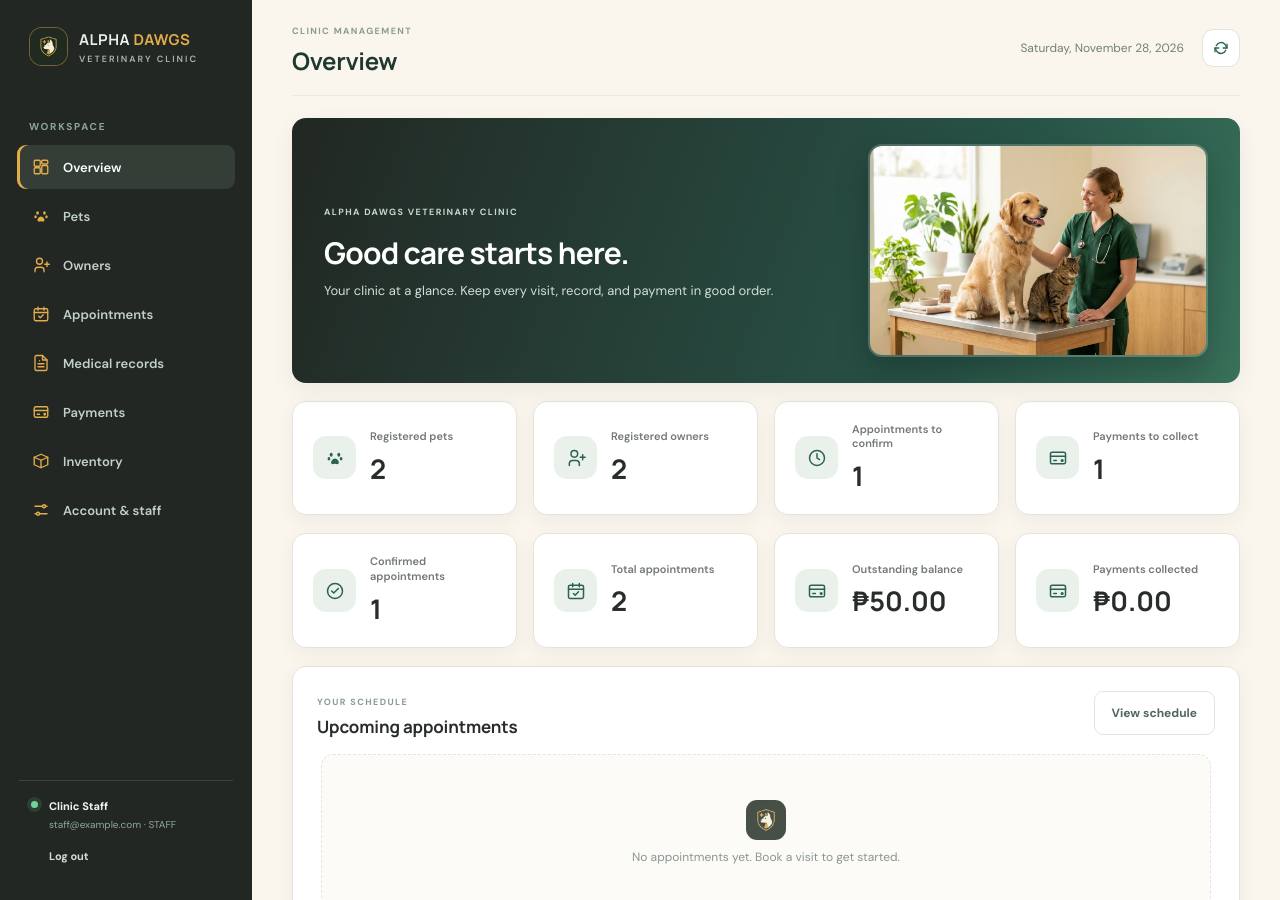
clinic portals and routing › loads staff totals, routed navigation links, and real pet avatars
Expected: the text "Appointments to confirm" is shown, [852,422,942,450]
Expected: the text "Payments to collect" is shown, [1093,429,1199,444]
Click the link "Pets".
click(61, 216)  # box [32,207,90,225]
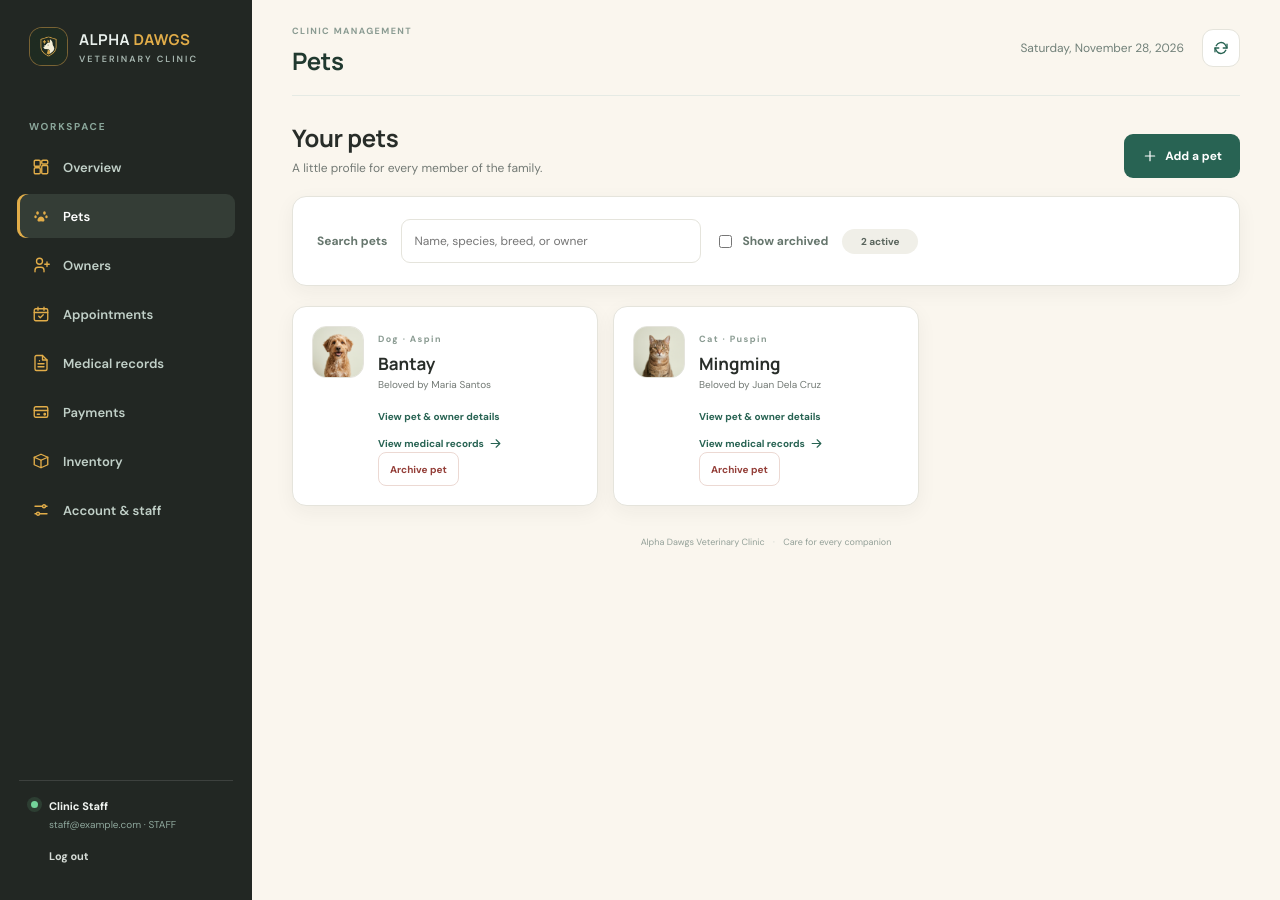
Result: the heading "Bantay" is shown at [378,352,435,375]
